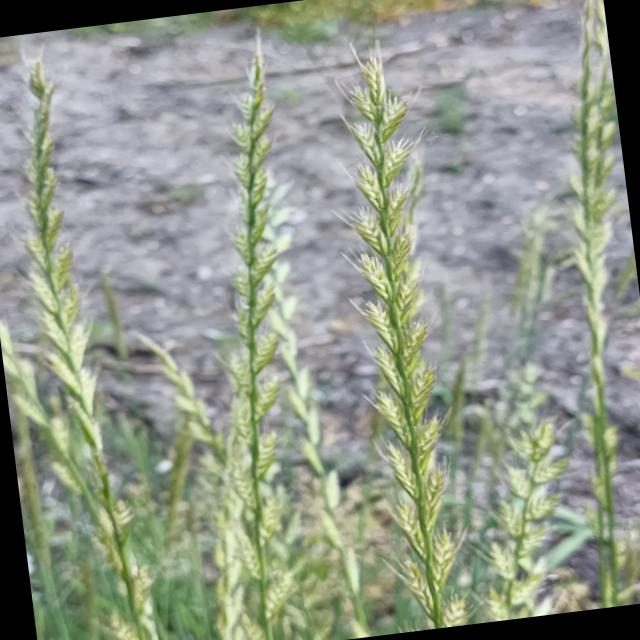Lolium: (437, 0, 640, 619), (160, 43, 347, 640), (310, 32, 490, 632), (0, 58, 174, 640)
